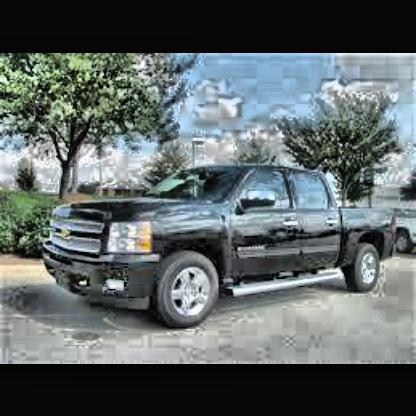Chevrolet Silverado 1500 Hybrid Crew Cab 2012: (35, 159, 404, 332)
